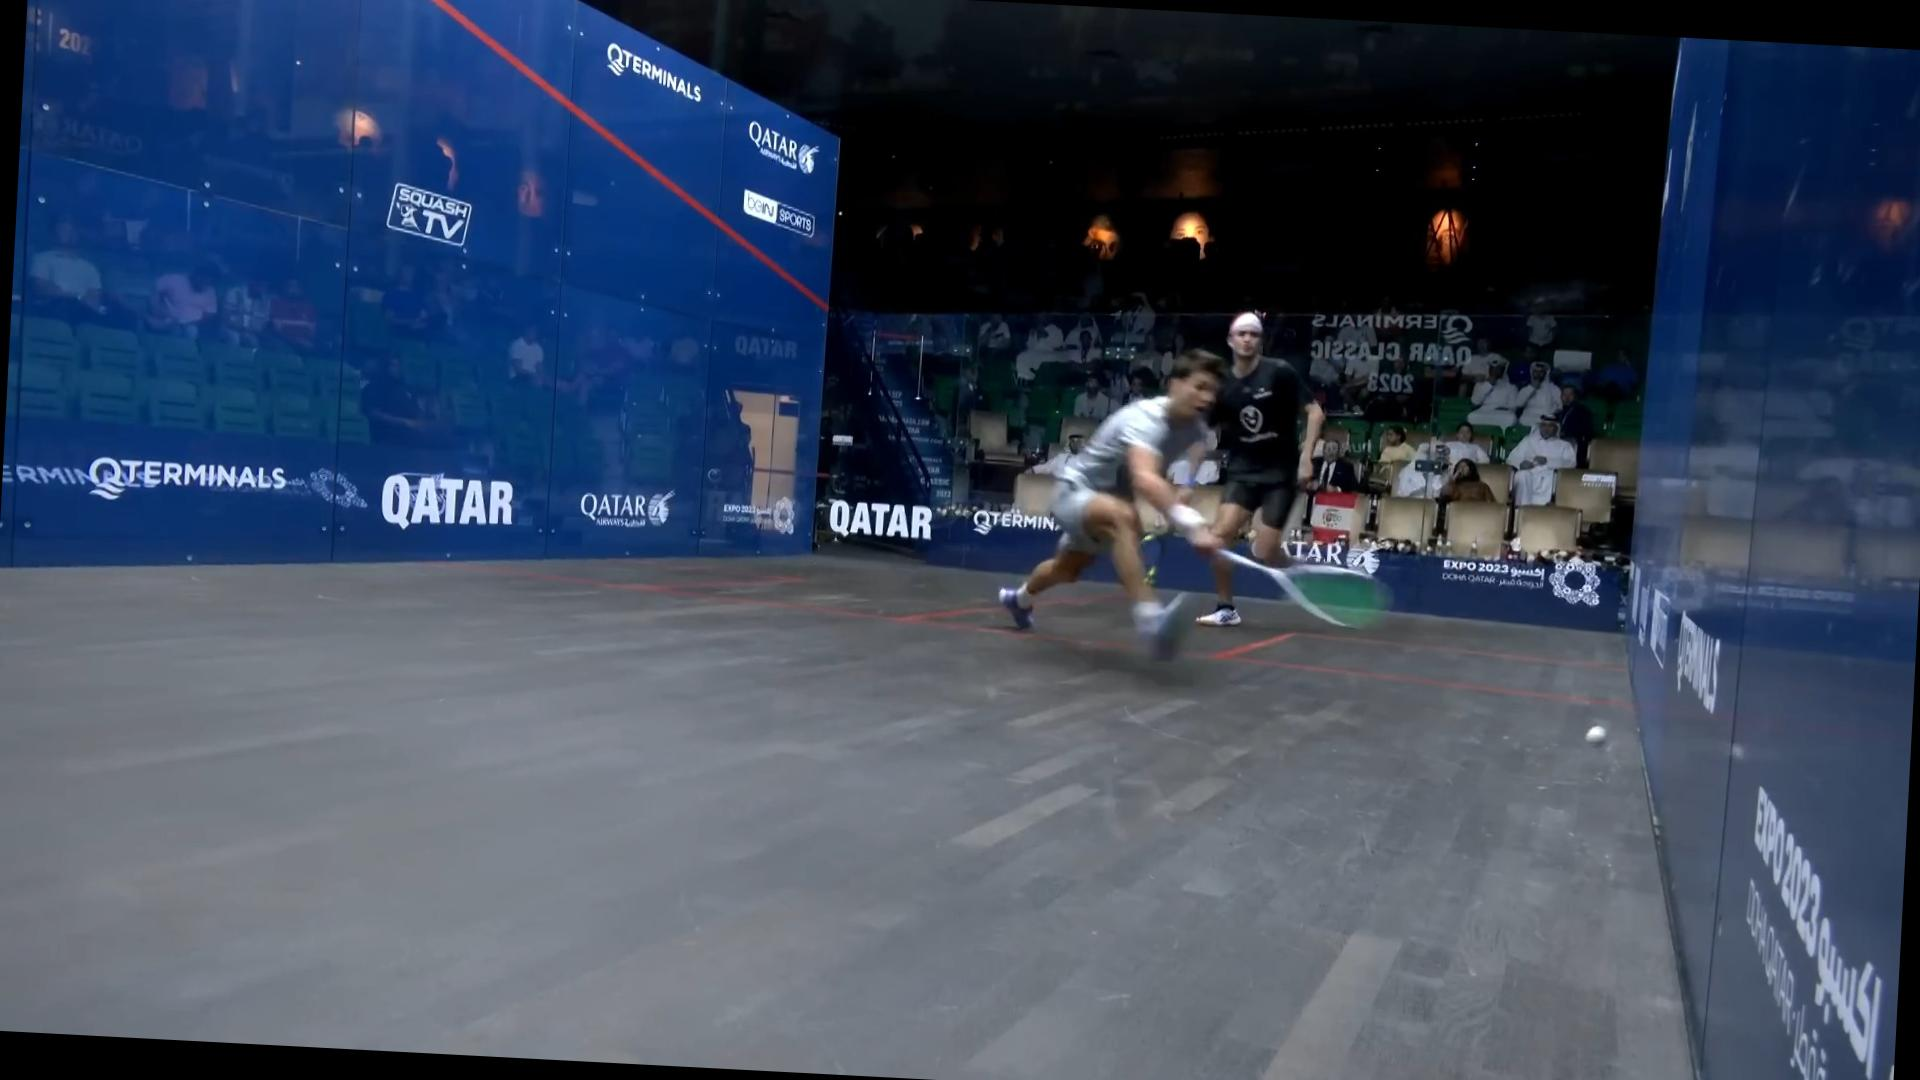Racket: (1216, 549, 1385, 636)
